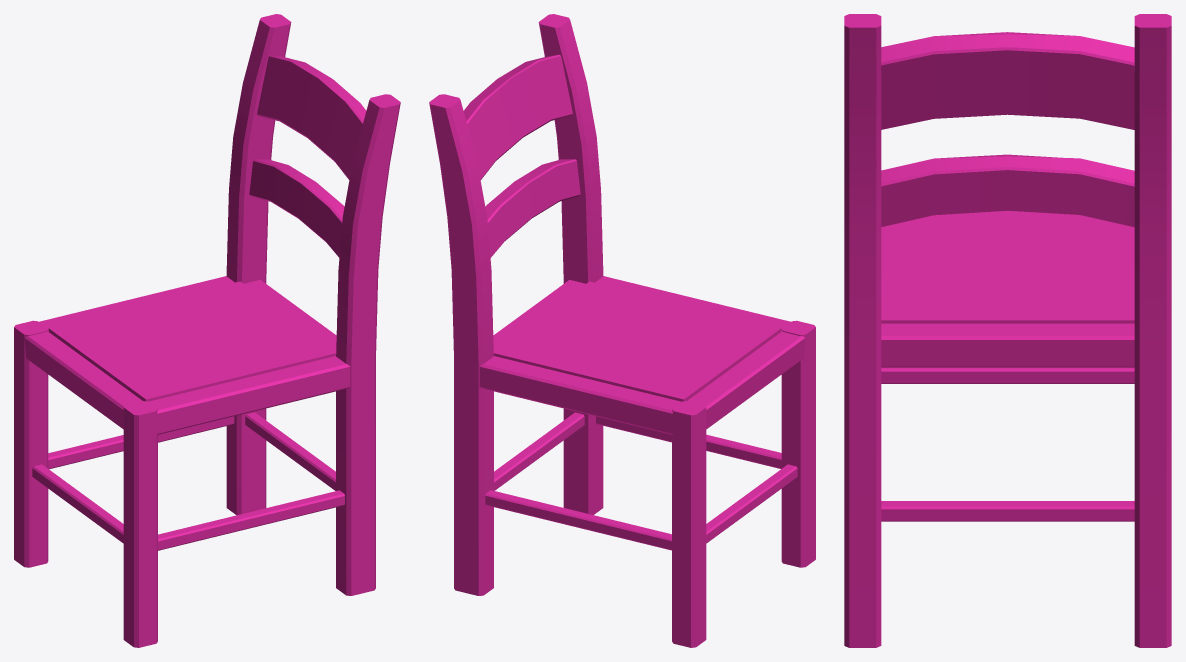
Rendered from Stoel.fbx.
3 views of the same model, side by side, from view 1: azimuth 30°, elevation 25°; view 2: azimuth 150°, elevation 25°; view 3: azimuth 270°, elevation 25° (orthographic). The views are drawn at different scales.
Parts seen in each view (by area): view 1: Stoel; view 2: Stoel; view 3: Stoel.
Boxes of the visible parts, x1=… form: Stoel: x1=14, y1=14, x2=400, y2=647; Stoel: x1=429, y1=14, x2=815, y2=647; Stoel: x1=844, y1=14, x2=1171, y2=647.
Size of the model in its own units: 51.71 by 88.83 by 41.41.
